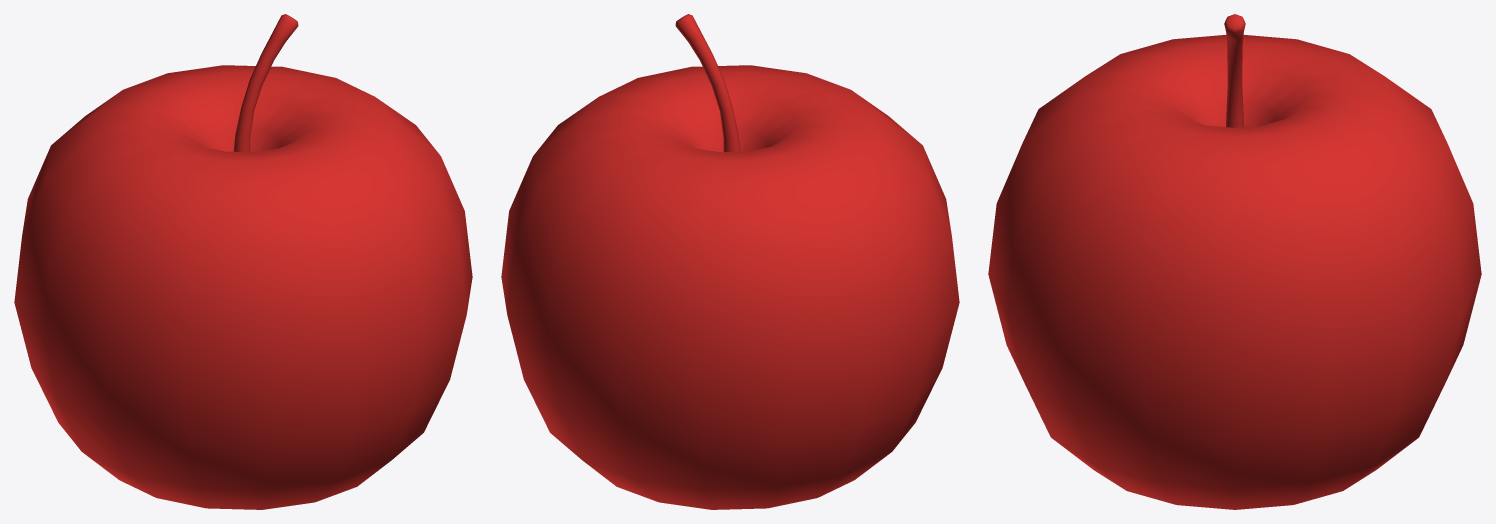
File: asset_apple.glb
The picture shows the model from 3 angles, left to right: view 1: azimuth 30°, elevation 25°; view 2: azimuth 150°, elevation 25°; view 3: azimuth 270°, elevation 25°; orthographic projection. The views are drawn at different scales.
Parts seen in each view (by area): view 1: apple; view 2: apple; view 3: apple.
Boxes of the visible parts, x1,y1,x2,y2 form: apple: [14, 14, 472, 509]; apple: [501, 14, 959, 509]; apple: [988, 14, 1481, 509].
Size of the model in its own units: 3.04 by 3.19 by 3.04.
